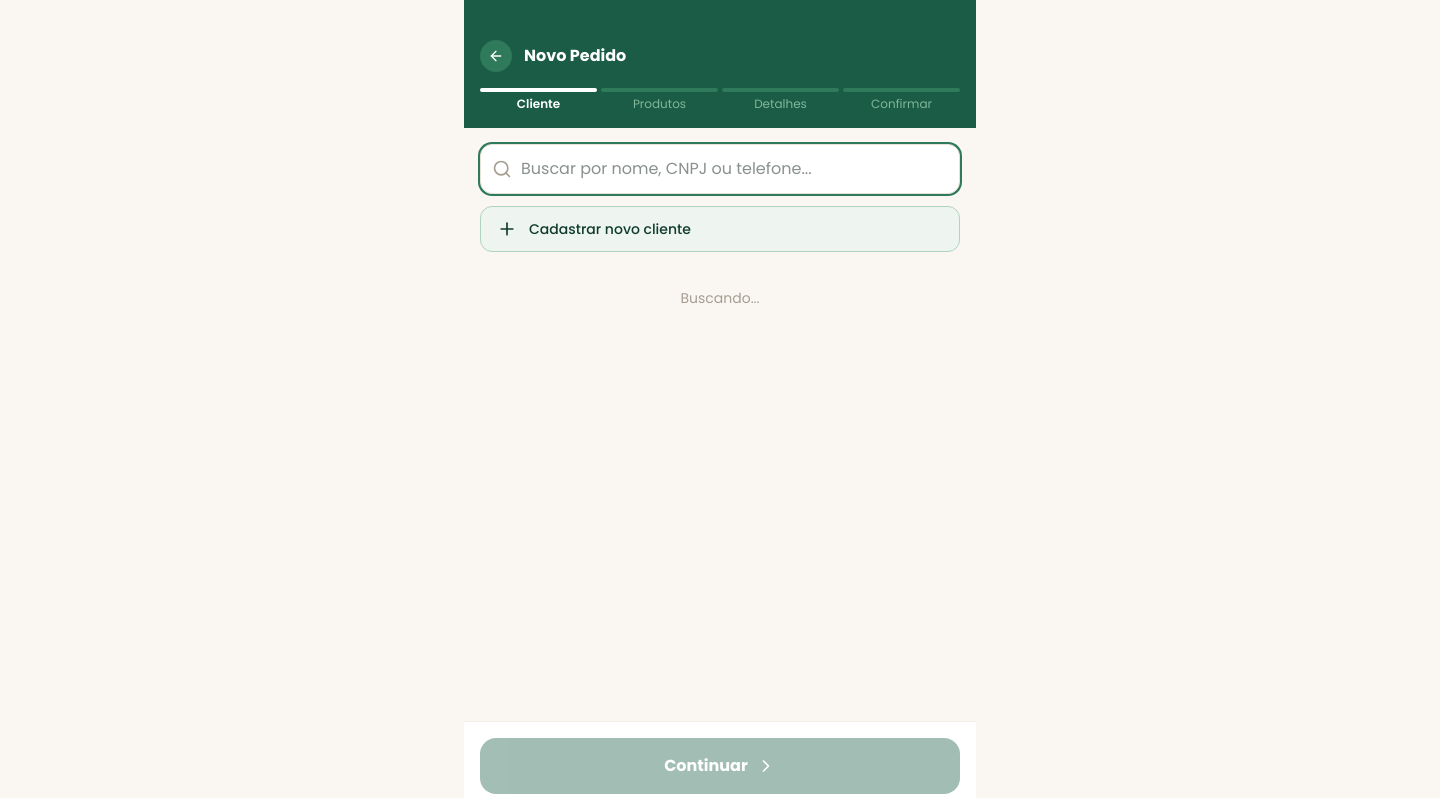
Test: Novo pedido › novo cliente › busca de CEP com a rede fora
The width and height of the screenshot is (1440, 798).
Click the button "Cadastrar novo cliente" at (610, 229), box [480,206,960,252]
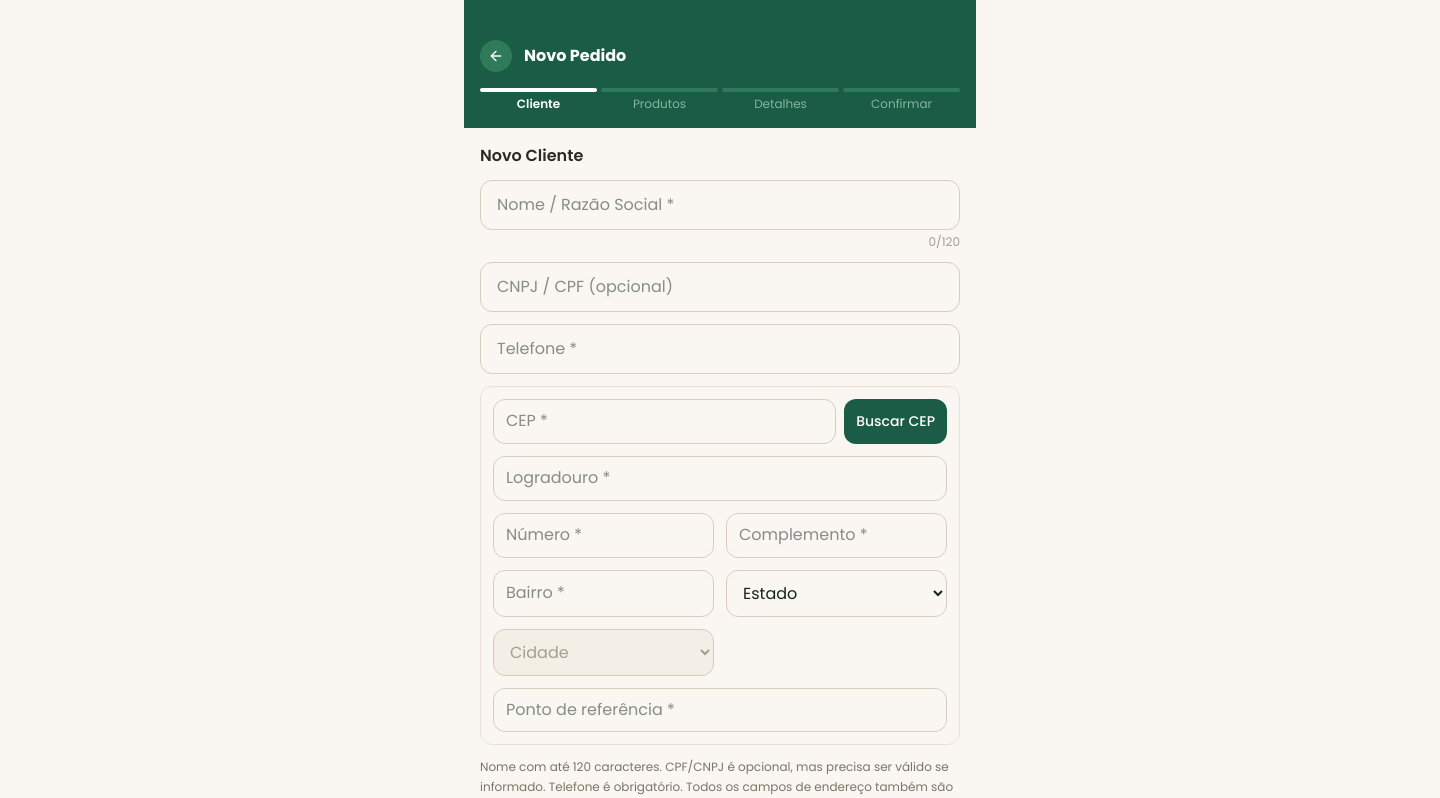
Expected: the heading "Novo Cliente" is shown, [480,144,583,167]
Type "06454000" into the field with placeholder "CEP *" at (665, 421), box [493,399,836,444]
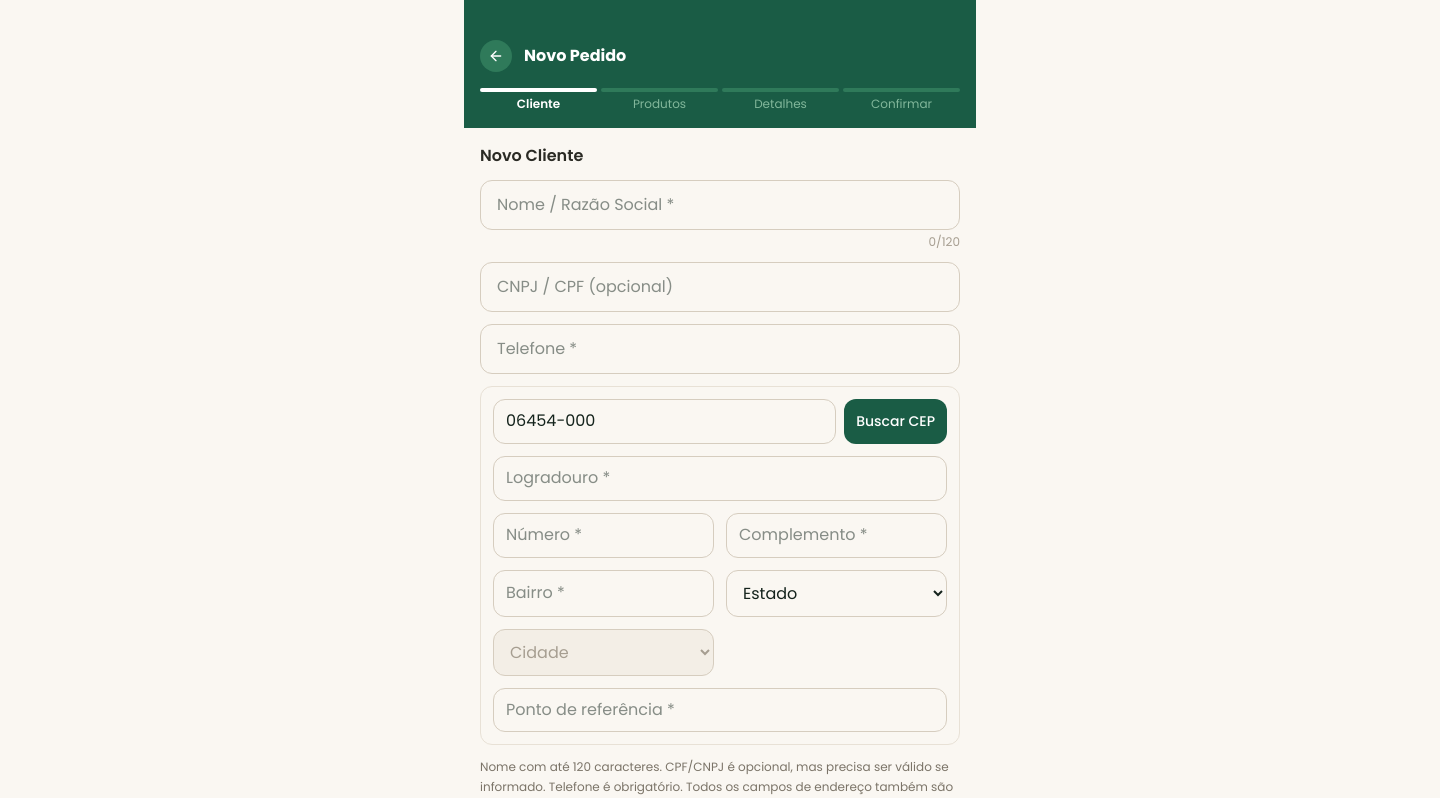
Click the button "Buscar CEP" at (896, 421), box [844,399,947,444]
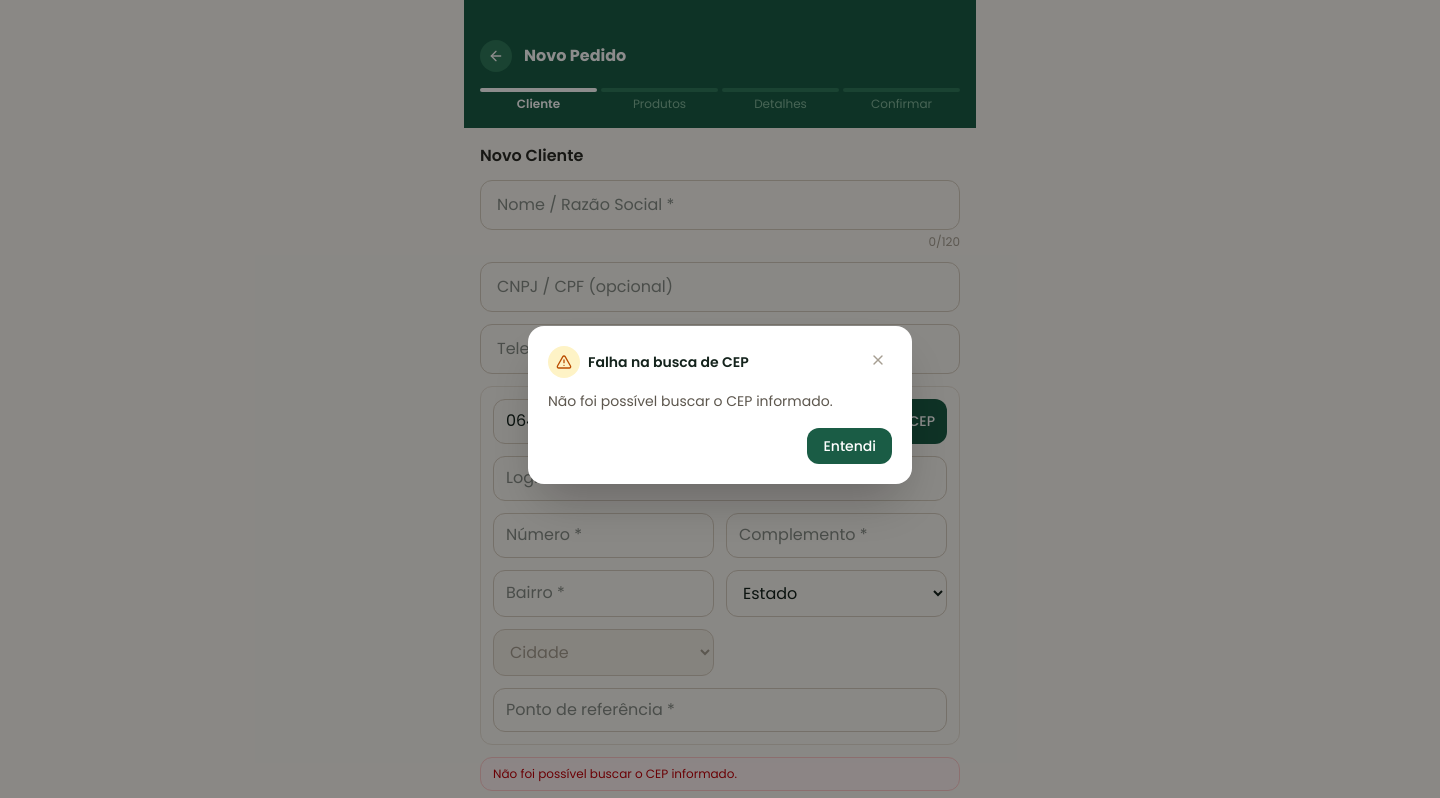
Result: the heading "Falha na busca de CEP" is shown at [588,352,749,372]
